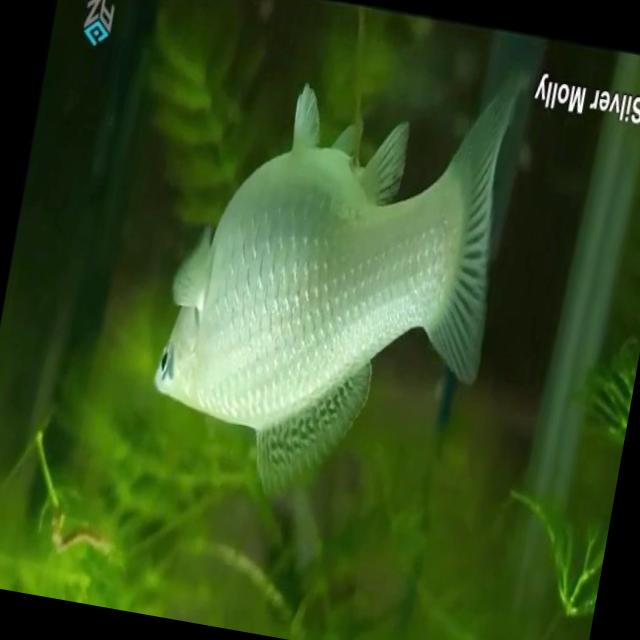PlatyFish: (118, 0, 553, 549)
